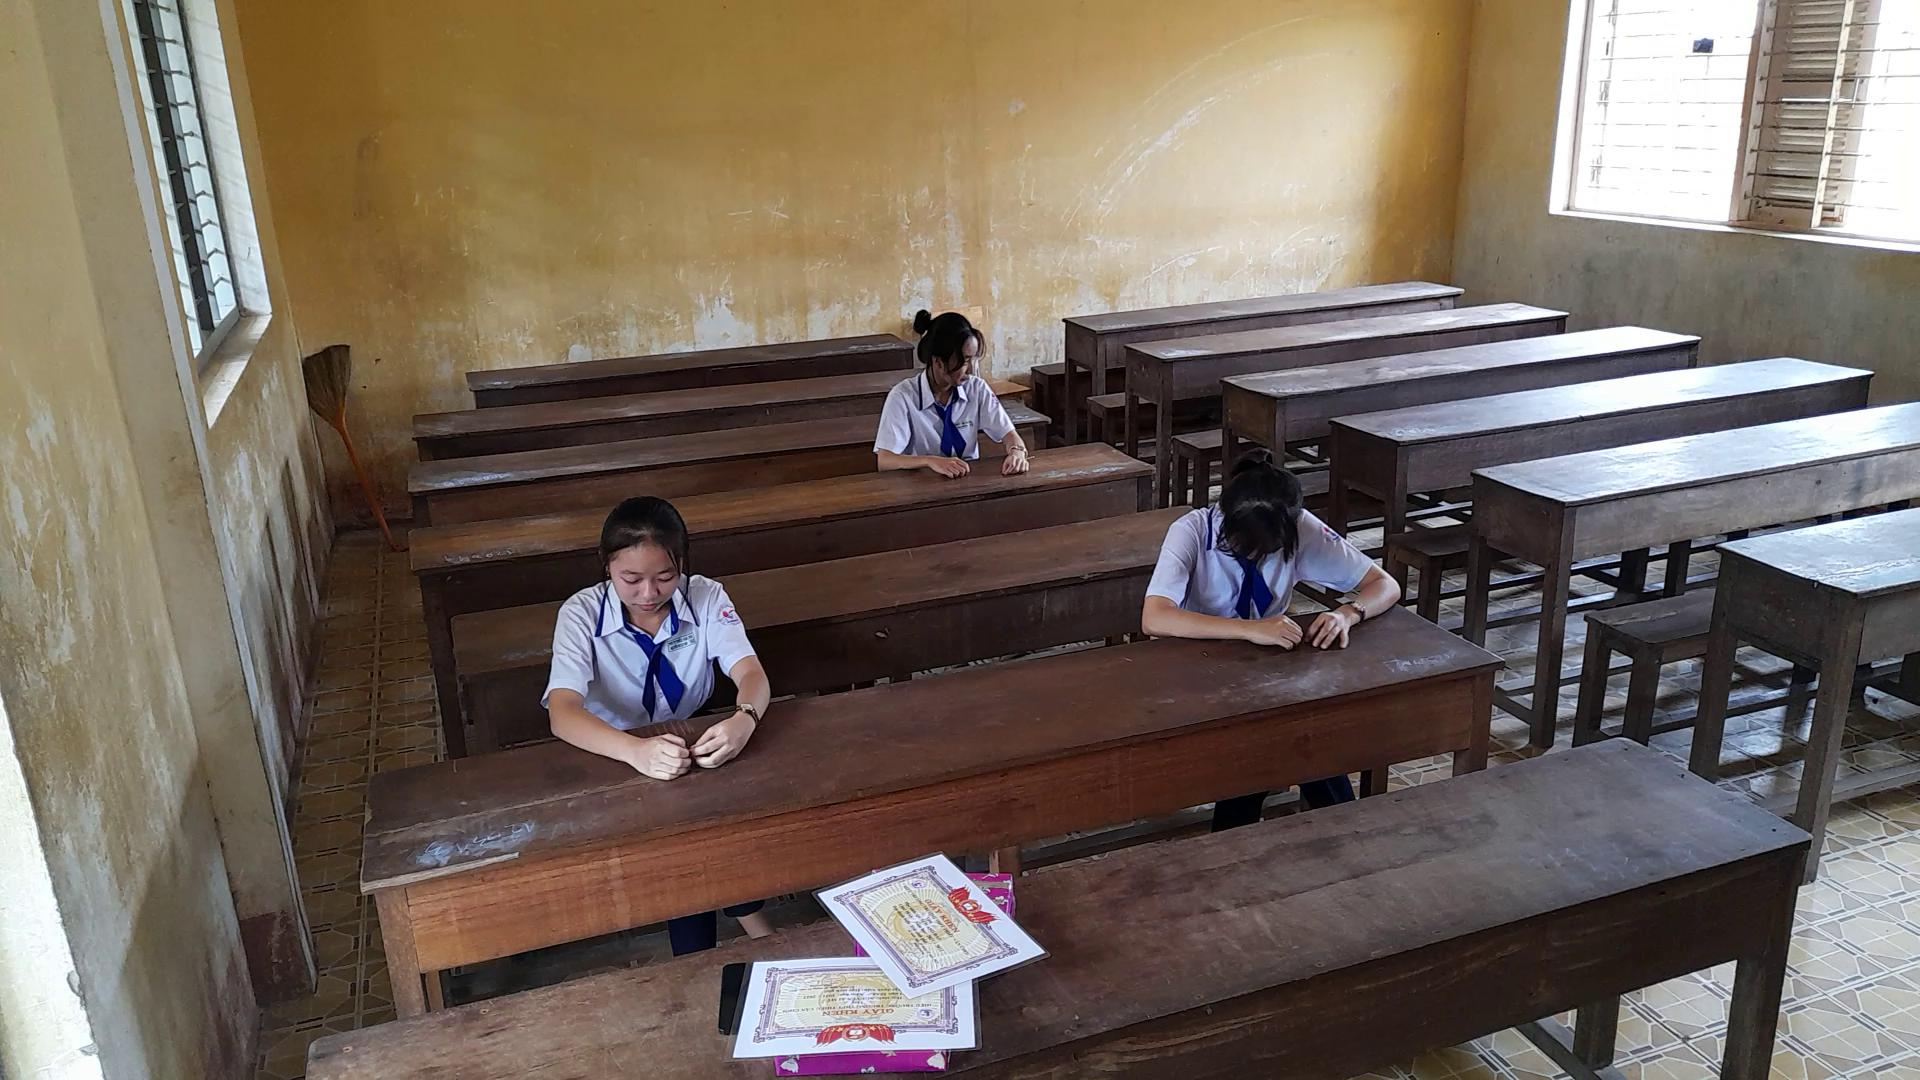Bend Over The Desk: (579, 481, 698, 622), (1197, 436, 1315, 578)
Look Around: (894, 295, 996, 404)
